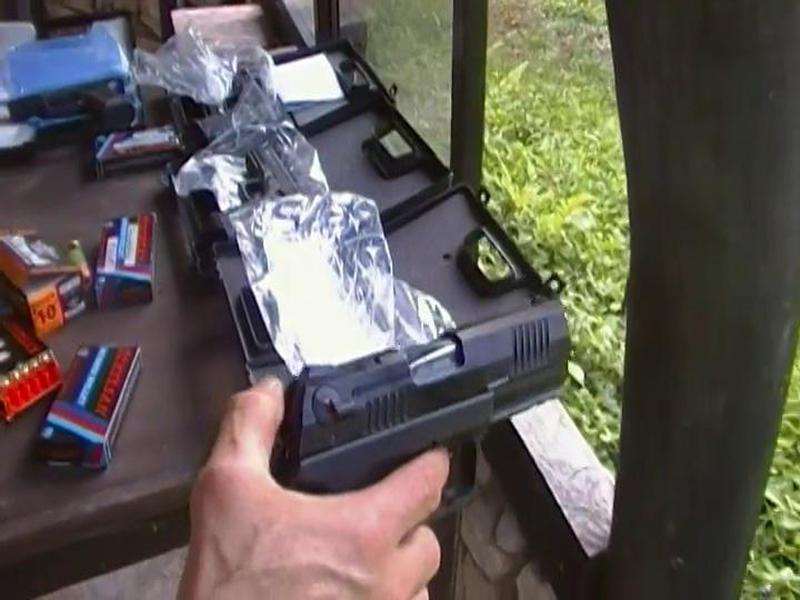Pistola: (222, 300, 603, 539)
